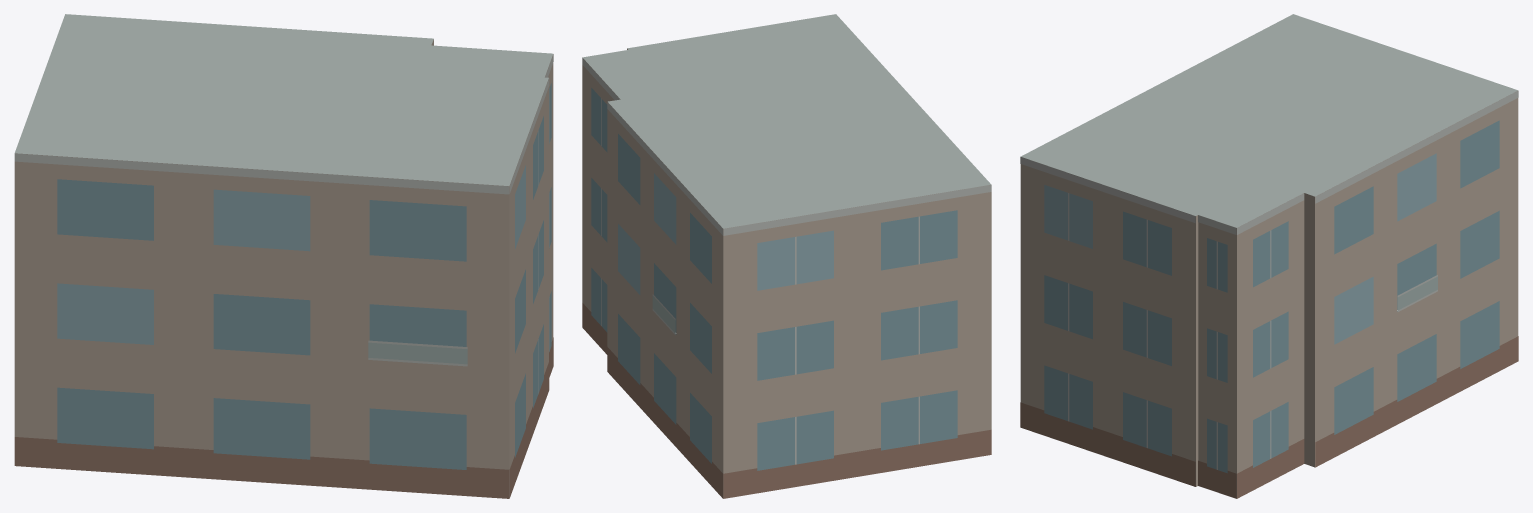
File: survey-upis-32831605.glb
3 views of the same model, side by side, from view 1: azimuth 30°, elevation 25°; view 2: azimuth 150°, elevation 25°; view 3: azimuth 270°, elevation 25° (orthographic). The views are drawn at different scales.
Visible parts, largest first — view 1: survey-upis-32831605.tmp; view 2: survey-upis-32831605.tmp; view 3: survey-upis-32831605.tmp.
Boxes of the visible parts, x1,y1,x2,y2 form: survey-upis-32831605.tmp: (14, 14, 553, 498); survey-upis-32831605.tmp: (582, 14, 991, 498); survey-upis-32831605.tmp: (1020, 14, 1518, 498).
Bounding box in the file's own units: 15.51 × 9.15 × 15.25.
